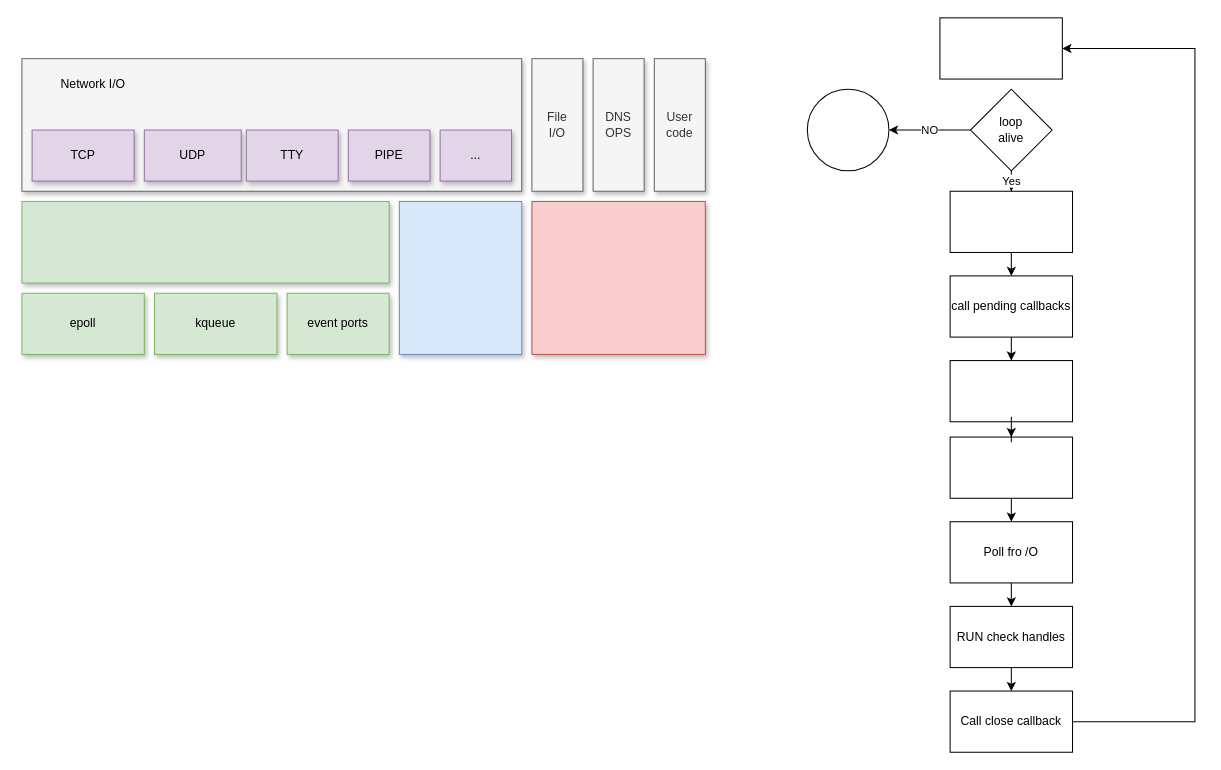
The diagram is 1221 pixels wide and 770 high, and some of its shapes have lost their labels. The centre of each missing label's shape, as x and y in pixels:
End: the point at 847,129
IOCP: the point at 461,279
Run due timers: the point at 1011,221
Run idle handles: the point at 1011,391
Run prepare handles: the point at 1011,467
Thread Pool: the point at 619,279
Update loop time: the point at 1000,48
uv_io_t: the point at 206,243
